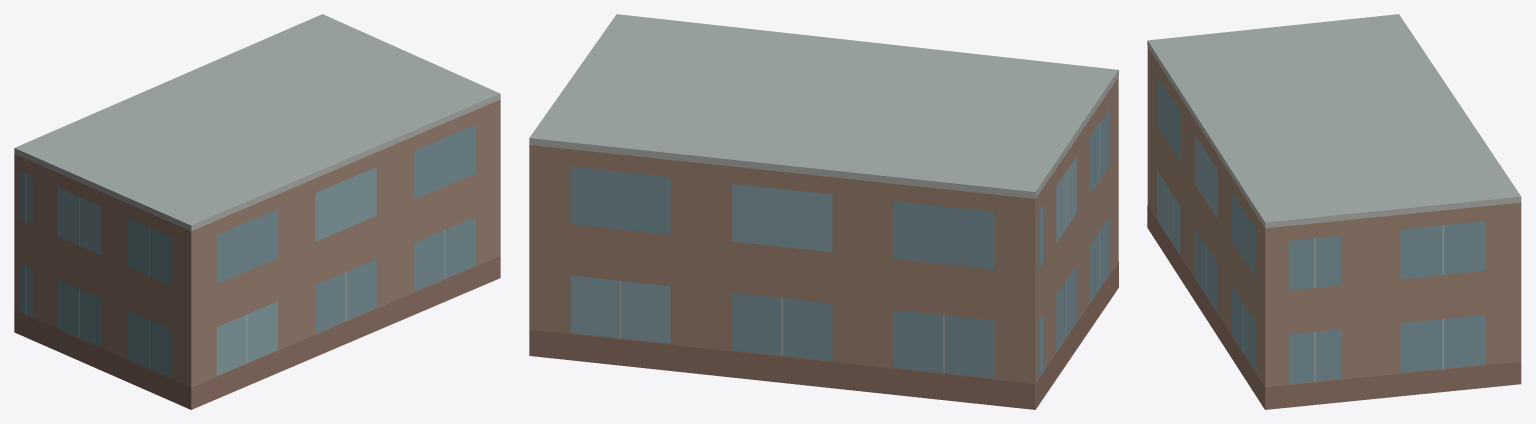
The model's file is survey-upis-32920972.glb.
3 views of the same model, side by side, from view 1: azimuth 30°, elevation 25°; view 2: azimuth 150°, elevation 25°; view 3: azimuth 270°, elevation 25° (orthographic). The views are drawn at different scales.
Visible parts, largest first — view 1: survey-upis-32920972.tmp; view 2: survey-upis-32920972.tmp; view 3: survey-upis-32920972.tmp.
Part boxes in pixels (<box>): survey-upis-32920972.tmp: <box>14,14,500,409</box>; survey-upis-32920972.tmp: <box>529,14,1118,409</box>; survey-upis-32920972.tmp: <box>1147,14,1521,409</box>.
Size of the model in its own units: 18.63 by 7.8 by 14.12.
